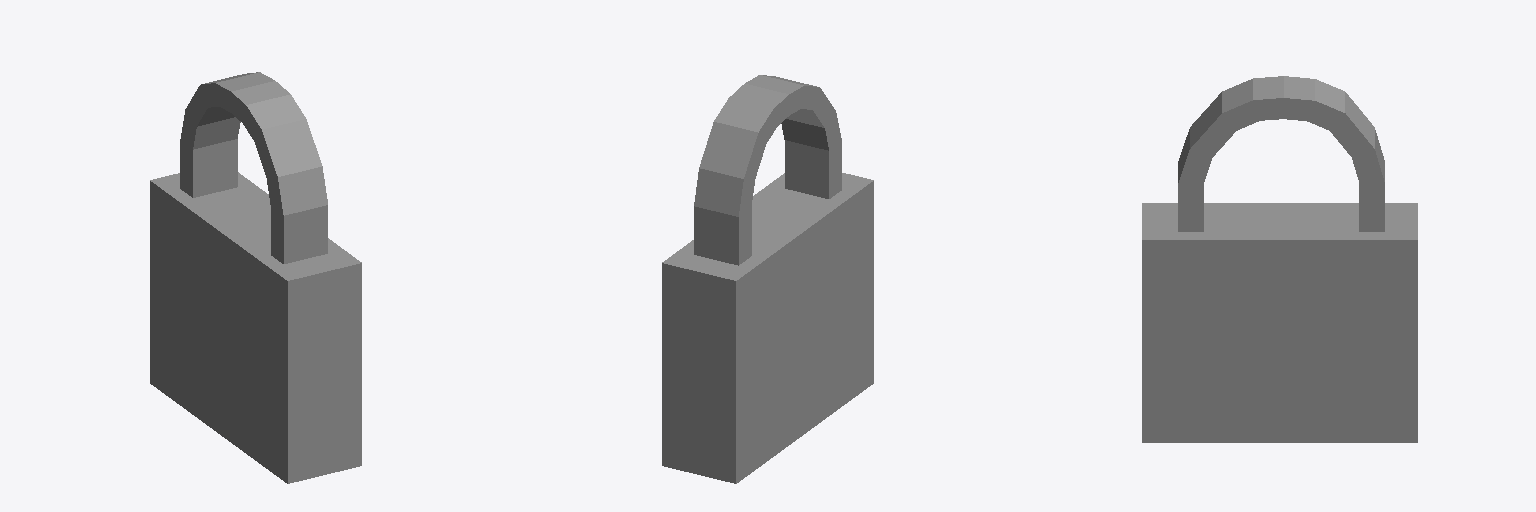
Rendered from lock.obj.
The picture shows the model from 3 angles: view 1: azimuth 30°, elevation 25°; view 2: azimuth 150°, elevation 25°; view 3: azimuth 270°, elevation 25°; orthographic projection.
Parts seen in each view (by area): view 1: Cube; view 2: Cube; view 3: Cube.
Part boxes in pixels (left/top/right/bottom): Cube: left=150, top=72, right=361, bottom=483; Cube: left=662, top=75, right=873, bottom=483; Cube: left=1142, top=76, right=1417, bottom=442.
Size of the model in its own units: 0.1 by 0.4319 by 0.32.